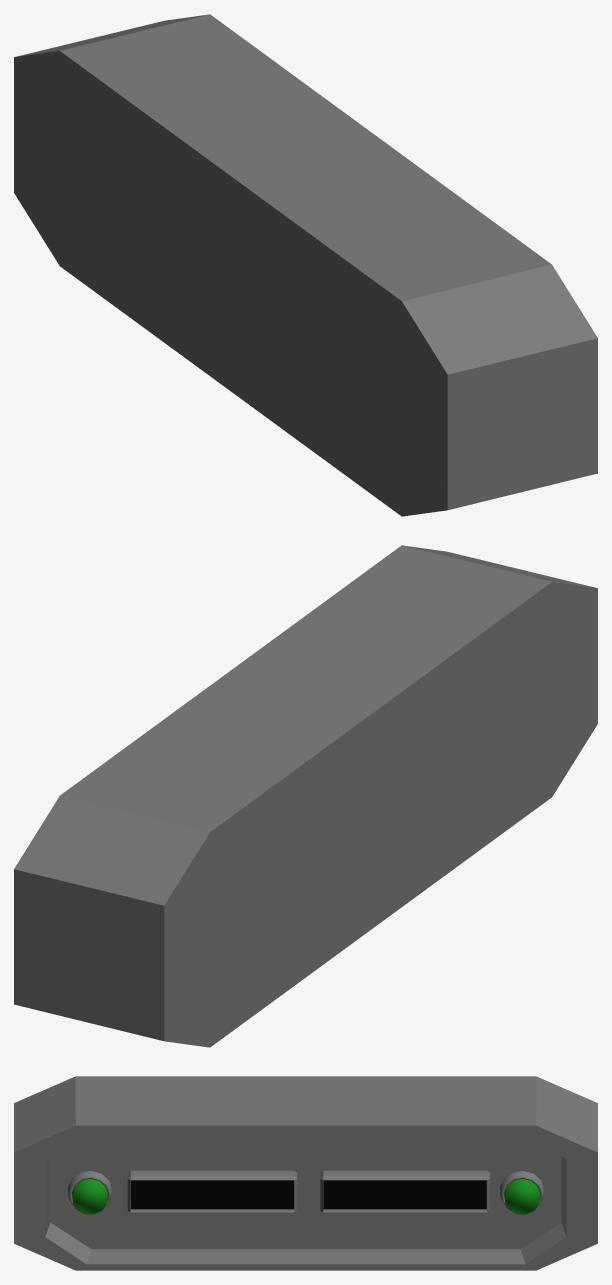
File: panel.glb
The picture shows the model from 3 angles, top to bottom: view 1: azimuth 30°, elevation 25°; view 2: azimuth 150°, elevation 25°; view 3: azimuth 270°, elevation 25°; orthographic projection. The views are drawn at different scales.
Visible parts, largest first — view 1: TopPanel, BottomPanel, ButtonSliceLeft, ButtonSliceRight; view 2: TopPanel, BottomPanel, ButtonSliceRight, ButtonSliceLeft; view 3: TopPanel, BottomPanel, DisplayLeft, DisplayRight, ButtonSliceRight, ButtonSliceLeft, BtnLeft, Btnright, BtnHolderLeft, BtnHolderRight.
Part boxes in pixels (bbox=[...]): TopPanel: bbox=[14, 14, 597, 406]; BottomPanel: bbox=[14, 168, 597, 516]; ButtonSliceLeft: bbox=[231, 249, 597, 485]; ButtonSliceRight: bbox=[14, 90, 230, 326]; TopPanel: bbox=[14, 545, 597, 937]; BottomPanel: bbox=[14, 699, 597, 1047]; ButtonSliceRight: bbox=[14, 780, 380, 1016]; ButtonSliceLeft: bbox=[381, 621, 597, 857]; TopPanel: bbox=[14, 1076, 597, 1174]; BottomPanel: bbox=[14, 1215, 597, 1270]; DisplayLeft: bbox=[127, 1170, 297, 1213]; DisplayRight: bbox=[320, 1170, 490, 1213]; ButtonSliceRight: bbox=[306, 1163, 597, 1227]; ButtonSliceLeft: bbox=[14, 1163, 305, 1227]; BtnLeft: bbox=[72, 1179, 107, 1214]; Btnright: bbox=[504, 1179, 539, 1214]; BtnHolderLeft: bbox=[67, 1171, 112, 1210]; BtnHolderRight: bbox=[499, 1171, 544, 1210].
Size of the model in its own units: 0.2 by 0.2739 by 1.
